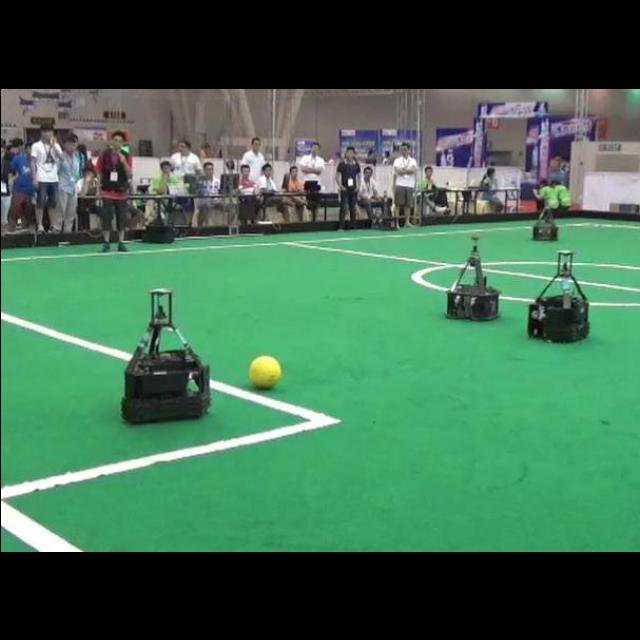ball: (247, 354, 281, 387)
robot: (120, 288, 209, 422), (527, 250, 588, 340), (446, 235, 498, 318), (534, 203, 560, 240)
